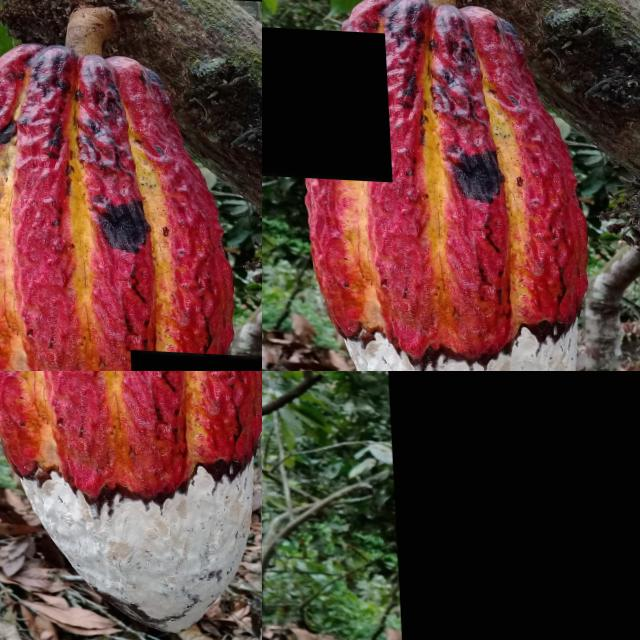Monilia: (384, 371, 640, 640), (262, 23, 389, 179)
